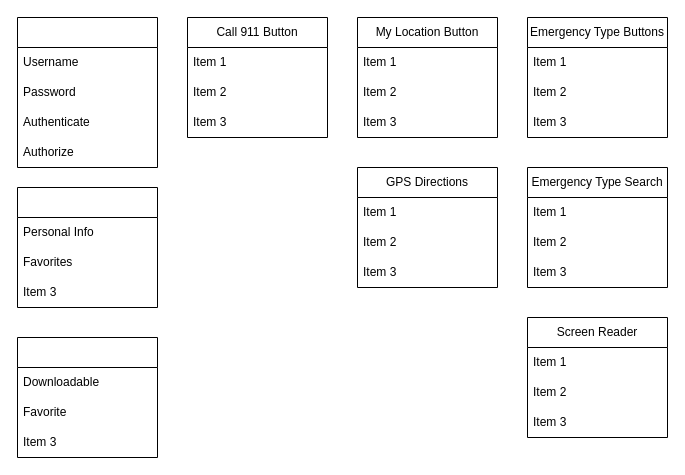
Some shapes in this 685 by 475 pixel diagram are drawn without their labels. Here are the shapes that lost their labels. From the top down, the box of each, then its label:
(16, 16, 158, 168): Login
(16, 186, 158, 308): Dashboard
(16, 336, 158, 458): First Aid Library
